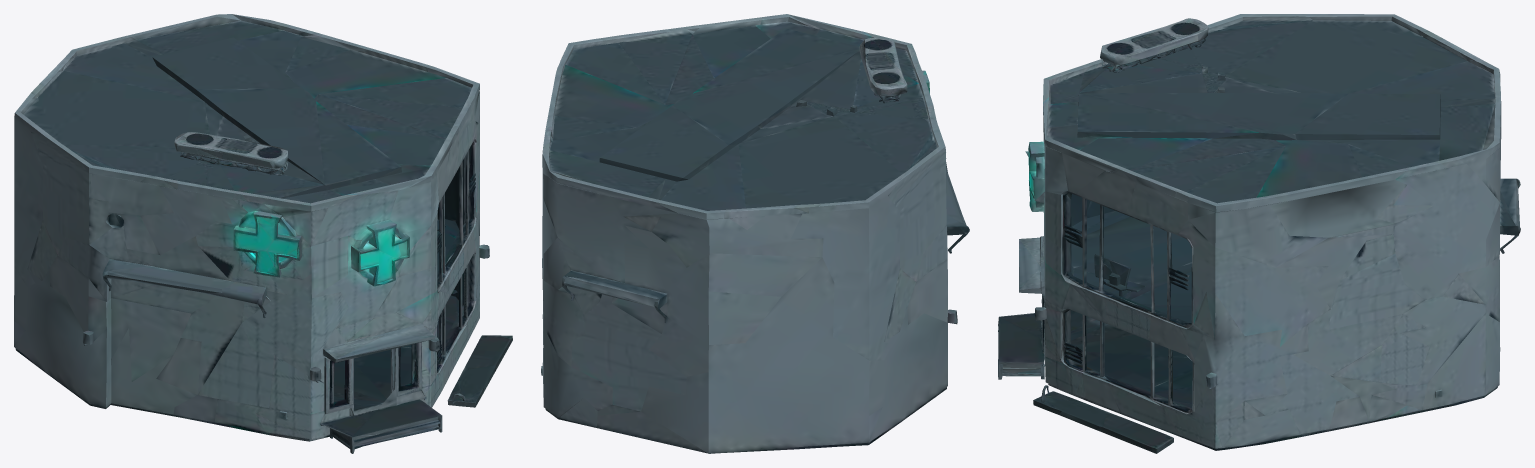
Rendered from mx_bld_clinic.glb.
3 renders of one model, left to right at view 1: azimuth 30°, elevation 25°; view 2: azimuth 150°, elevation 25°; view 3: azimuth 270°, elevation 25°, orthographic. The views are drawn at different scales.
Bounding box in the file's own units: 1.72 × 1.1 × 1.9.
Materials: 1 (1 with a texture image).
